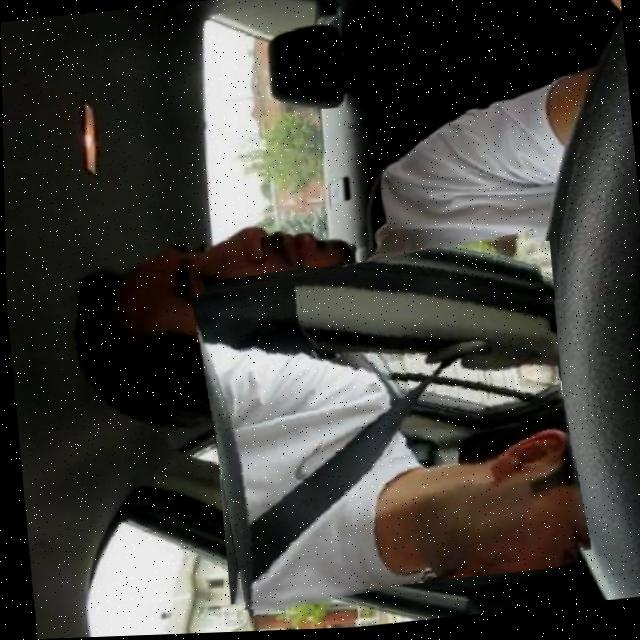seatbelt: (191, 238, 584, 614)
